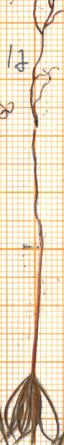flower: (0, 370, 64, 445)
root: (24, 0, 64, 248)
stem: (22, 248, 51, 375)
